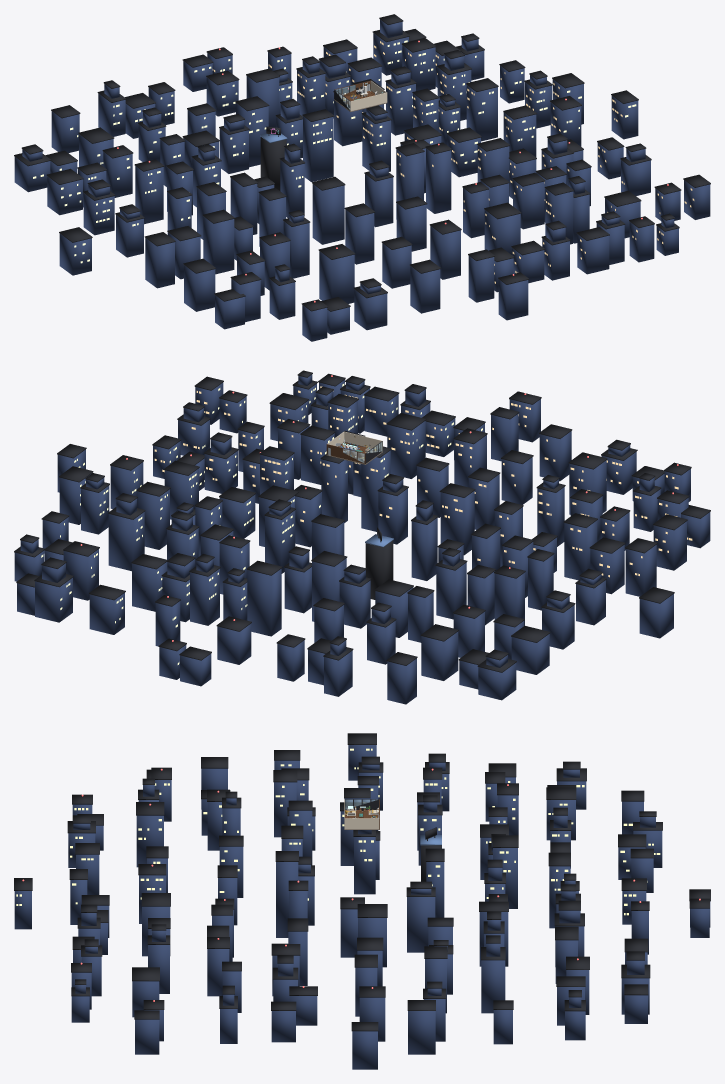
Rendered from tier5.glb.
3 views of the same model, one above another, from view 1: azimuth 30°, elevation 25°; view 2: azimuth 150°, elevation 25°; view 3: azimuth 270°, elevation 25° (orthographic). The views are drawn at different scales.
Visible parts, largest first — view 1: outside_s7_mesh, outside_s5_mesh, outside_s3_mesh, outside_s4_mesh, outside_s6_mesh, outside_s1_mesh, outside_s2_mesh, outside_s0_mesh; view 2: outside_s3_mesh, outside_s4_mesh, outside_s1_mesh, outside_s2_mesh, outside_s7_mesh, outside_s5_mesh, outside_s6_mesh, outside_s0_mesh; view 3: outside_s1_mesh, outside_s0_mesh, outside_s7_mesh, outside_s3_mesh, outside_s5_mesh, outside_s6_mesh, outside_s2_mesh, outside_s4_mesh.
Boxes of the visible parts, x1,y1,x2,y2 form: outside_s7_mesh: (425, 138, 710, 274); outside_s5_mesh: (183, 176, 387, 341); outside_s3_mesh: (14, 80, 287, 215); outside_s4_mesh: (59, 143, 305, 288); outside_s6_mesh: (364, 143, 570, 320); outside_s1_mesh: (323, 14, 525, 171); outside_s2_mesh: (148, 46, 350, 182); outside_s0_mesh: (400, 70, 638, 193); outside_s3_mesh: (307, 527, 550, 704); outside_s4_mesh: (411, 500, 674, 649); outside_s1_mesh: (14, 493, 295, 634); outside_s2_mesh: (155, 514, 347, 686); outside_s7_mesh: (177, 370, 399, 522); outside_s5_mesh: (439, 439, 710, 570); outside_s6_mesh: (361, 384, 572, 544); outside_s0_mesh: (57, 432, 322, 549); outside_s1_mesh: (406, 881, 650, 1044); outside_s0_mesh: (271, 897, 447, 1069); outside_s7_mesh: (71, 880, 308, 1054); outside_s3_mesh: (418, 761, 662, 881); outside_s5_mesh: (67, 757, 312, 897); outside_s6_mesh: (14, 843, 314, 956); outside_s2_mesh: (425, 835, 710, 966); outside_s4_mesh: (273, 733, 449, 894).
Size of what is drawn, in the model's own units: 206 by 37.4 by 202.
